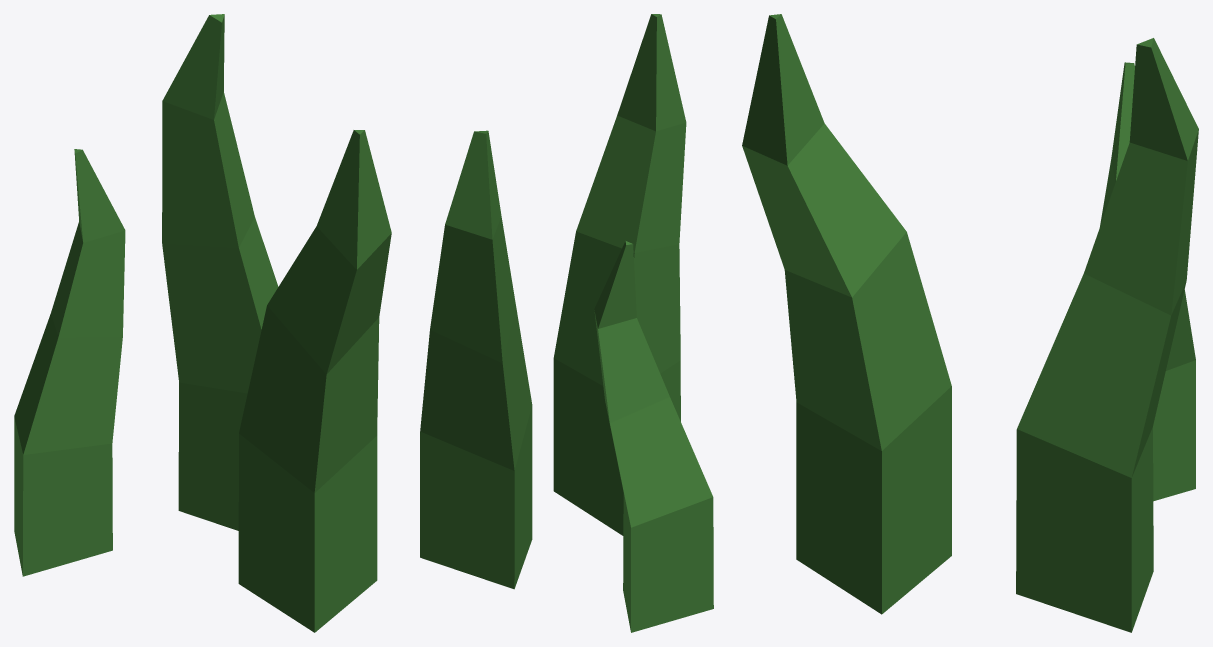
File: Grass 1.fbx
3 renders of one model, left to right at view 1: azimuth 30°, elevation 25°; view 2: azimuth 150°, elevation 25°; view 3: azimuth 270°, elevation 25°, orthographic. The views are drawn at different scales.
Visible parts, largest first — view 1: Grass 1; view 2: Grass 1; view 3: Grass 1.
Boxes of the visible parts, bbox=[...] form: Grass 1: bbox=[14, 14, 391, 632]; Grass 1: bbox=[420, 14, 713, 632]; Grass 1: bbox=[742, 14, 1198, 632].
Size of the model in its own units: 99.33 by 159 by 117.
